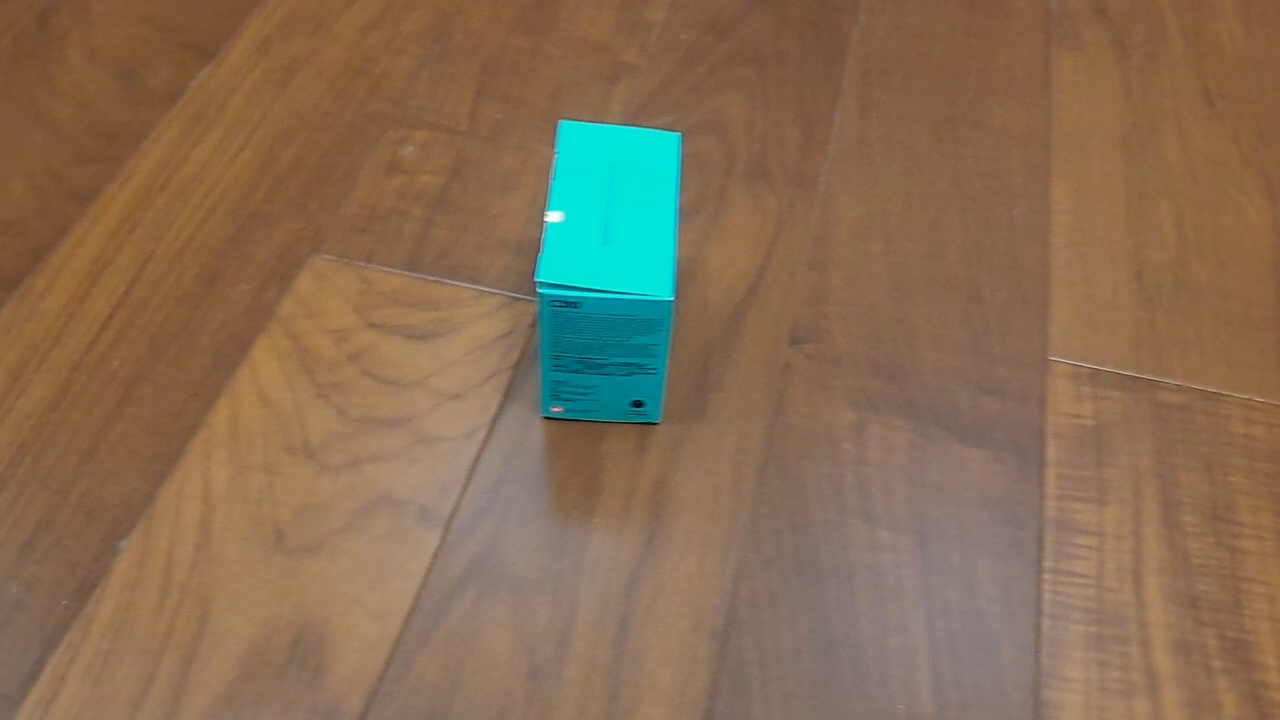webcam: (531, 116, 683, 428)
